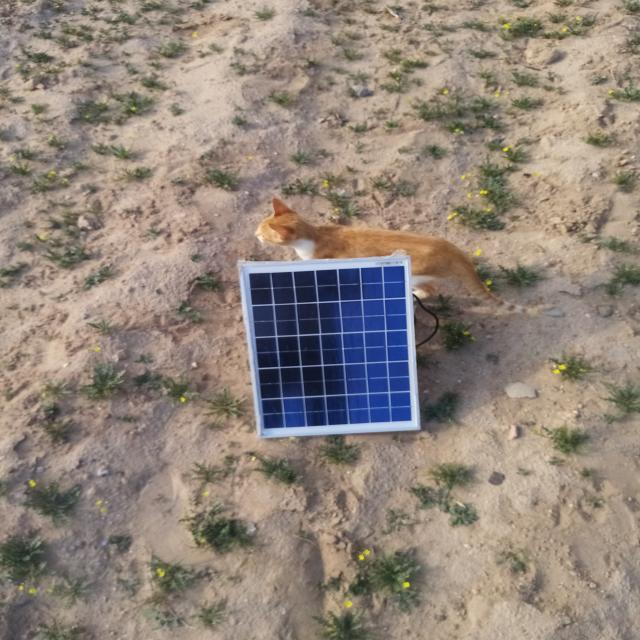no faulty: (241, 257, 419, 437)
